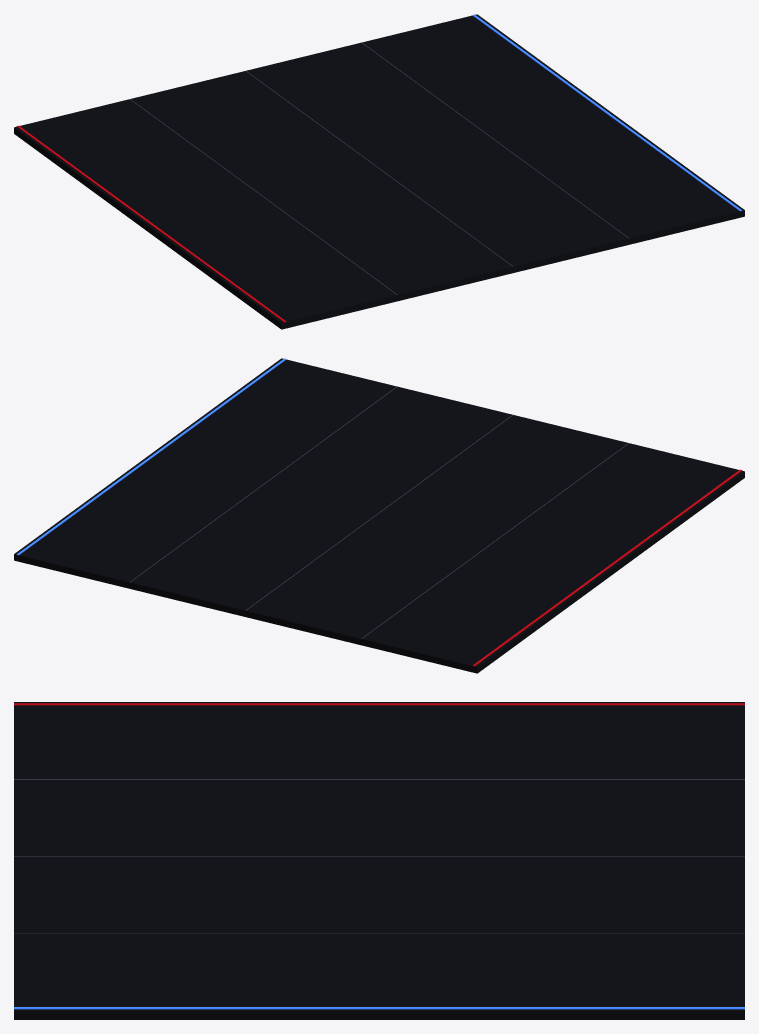
File: rt_large_grid_paving_module.glb
The picture shows the model from 3 angles, top to bottom: view 1: azimuth 30°, elevation 25°; view 2: azimuth 150°, elevation 25°; view 3: azimuth 270°, elevation 25°; orthographic projection. The views are drawn at different scales.
Visible parts, largest first — view 1: rt_large_grid_paving_module; view 2: rt_large_grid_paving_module; view 3: rt_large_grid_paving_module.
Part boxes in pixels (bbox=[...]): rt_large_grid_paving_module: bbox=[14, 14, 744, 329]; rt_large_grid_paving_module: bbox=[14, 358, 744, 673]; rt_large_grid_paving_module: bbox=[14, 702, 744, 1019].
Size of the model in its own units: 12 by 0.174 by 12.
